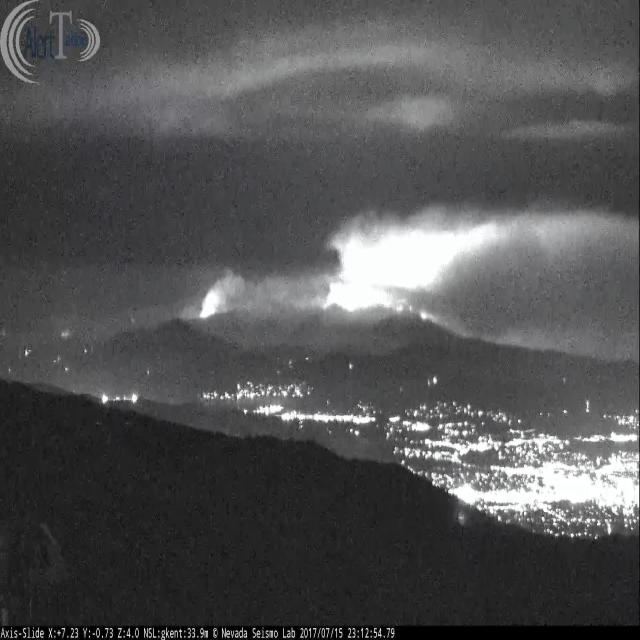smoke: (200, 196, 513, 324)
